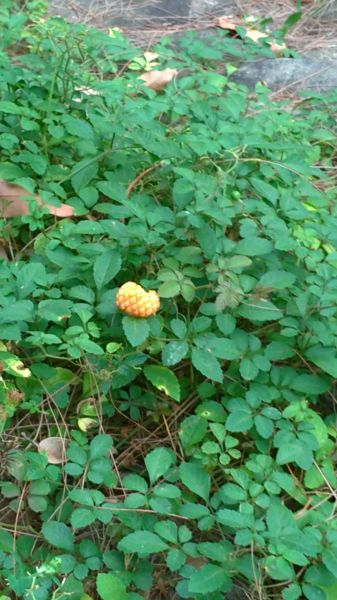eggs: (111, 280, 165, 319)
